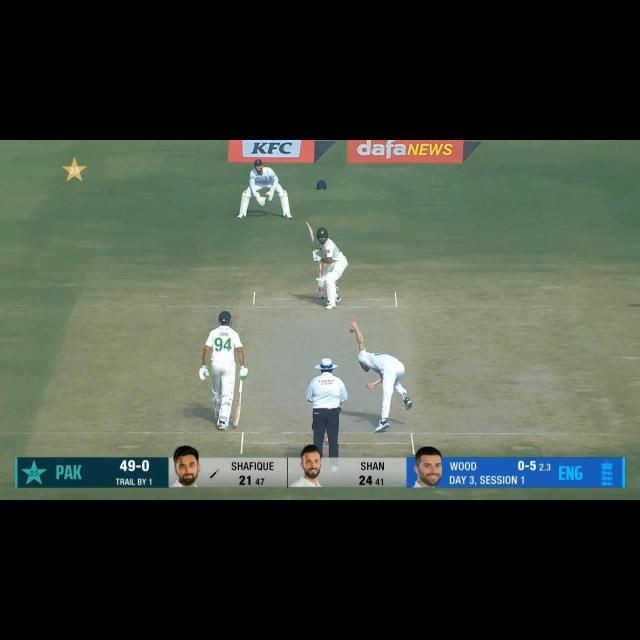bat: (231, 392, 245, 427), (304, 220, 319, 250)
toe: (230, 412, 242, 429), (305, 220, 312, 231)
